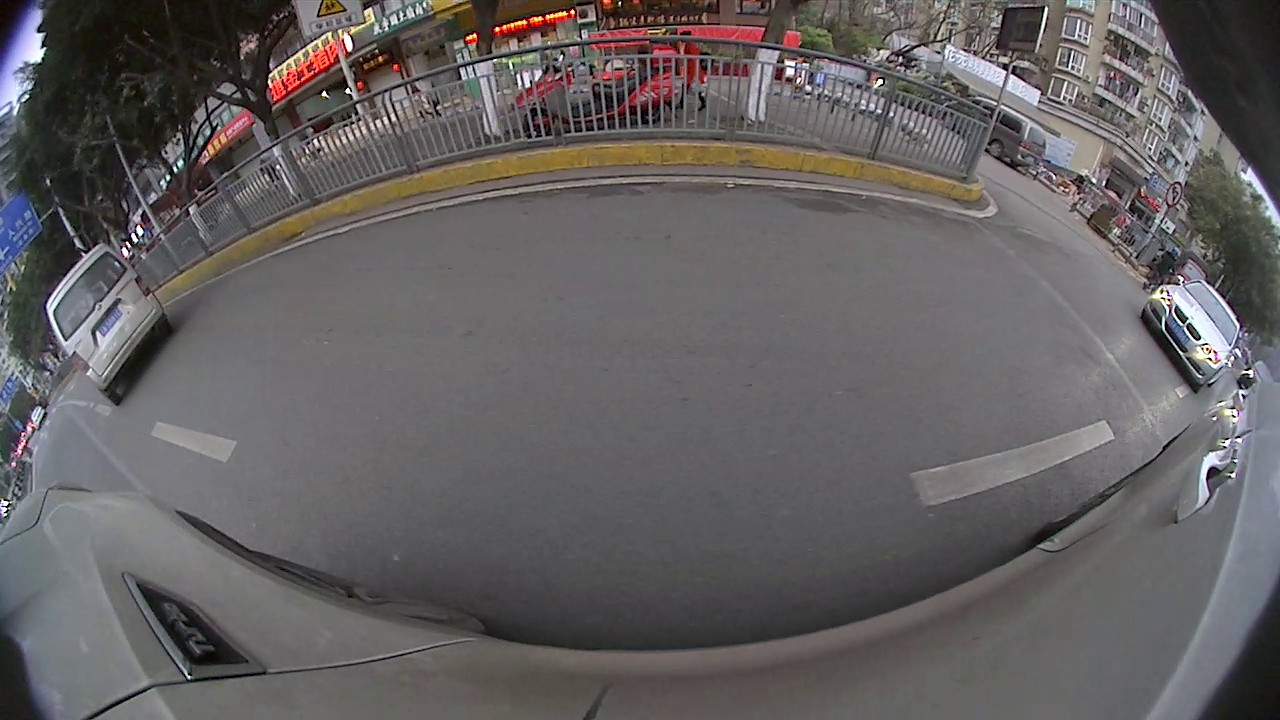car: (41, 240, 176, 410), (1136, 270, 1247, 398), (937, 90, 1050, 174)
rear: (987, 139, 1006, 159)
rider: (510, 38, 695, 143)
